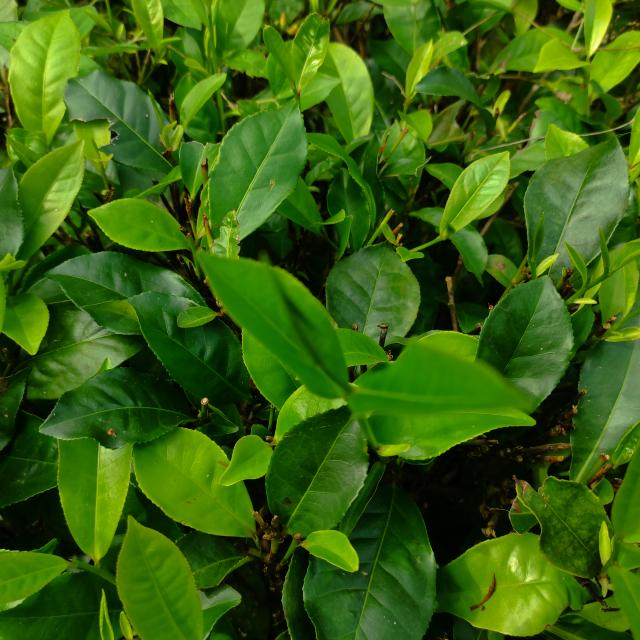unopened_leaf: (254, 241, 360, 419), (591, 219, 618, 287), (147, 31, 188, 67), (77, 6, 118, 42), (436, 216, 461, 245)
